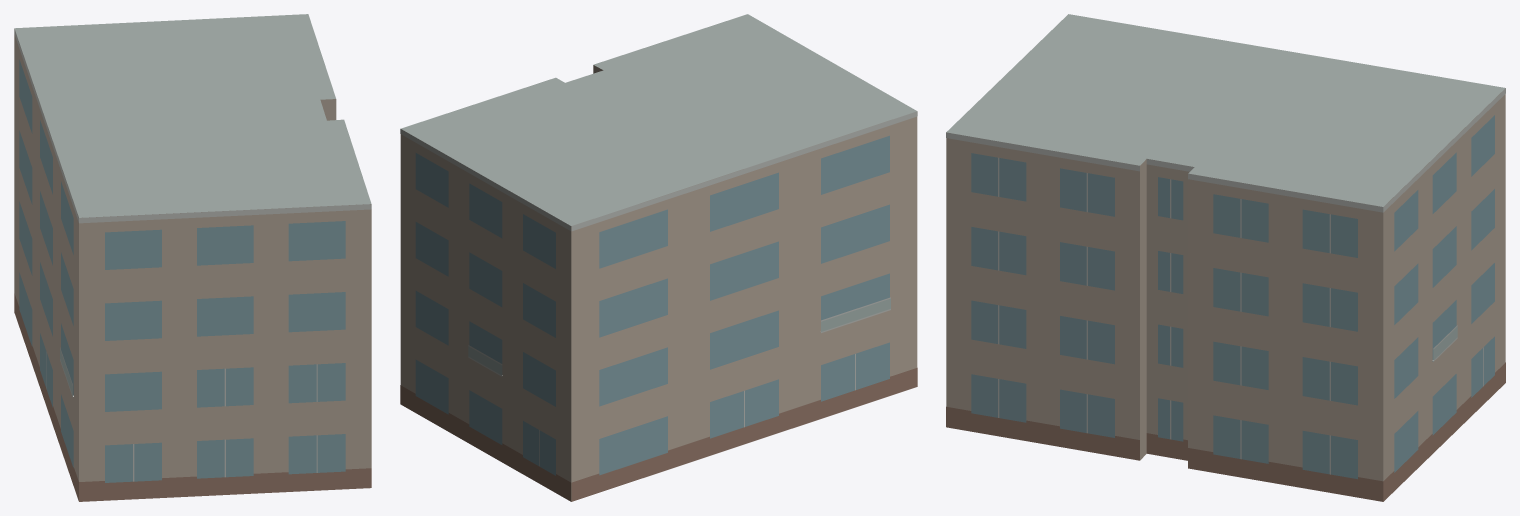
The model's file is survey-upis-32977709.glb.
3 renders of one model, left to right at view 1: azimuth 30°, elevation 25°; view 2: azimuth 150°, elevation 25°; view 3: azimuth 270°, elevation 25°, orthographic. The views are drawn at different scales.
Visible parts, largest first — view 1: survey-upis-32977709.tmp; view 2: survey-upis-32977709.tmp; view 3: survey-upis-32977709.tmp.
Part boxes in pixels (<box>): survey-upis-32977709.tmp: <box>14,14,371,501</box>; survey-upis-32977709.tmp: <box>400,14,917,501</box>; survey-upis-32977709.tmp: <box>946,14,1505,501</box>.
Size of the model in its own units: 17.91 by 12.75 by 21.94.
